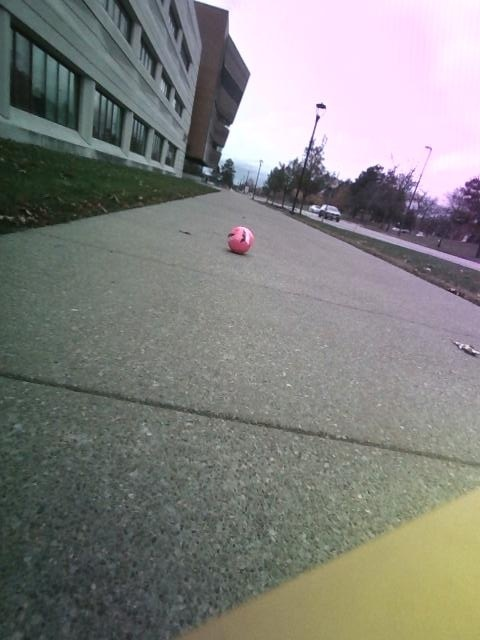ball: (227, 226, 254, 253)
